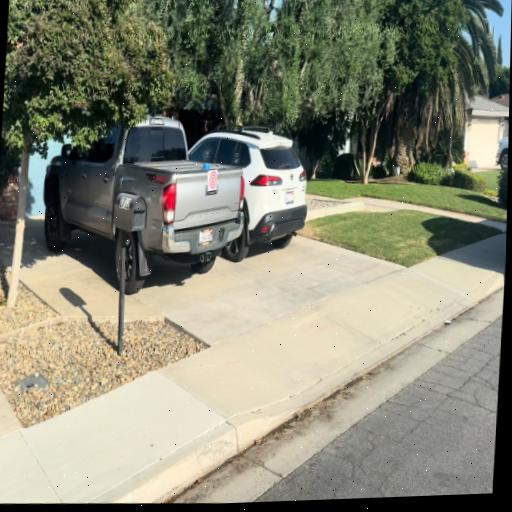bullseye: (208, 169, 217, 190)
